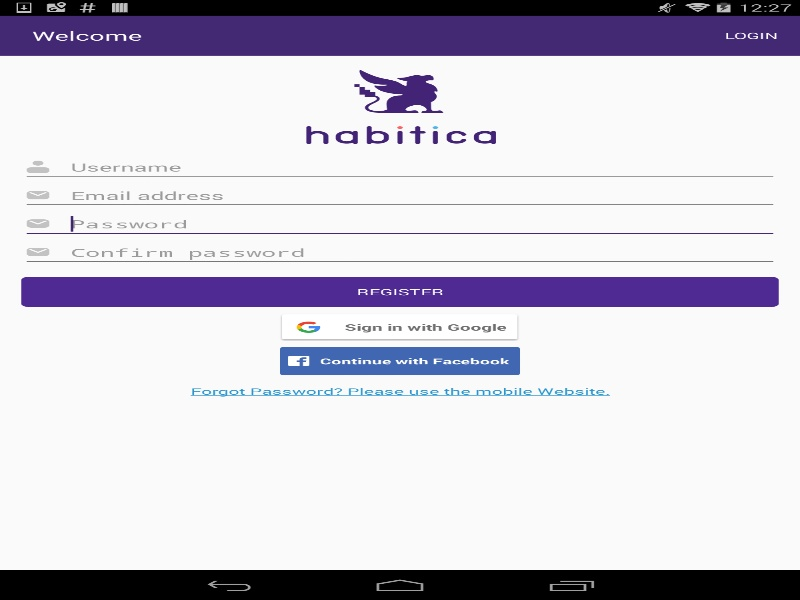Button: (21, 276, 778, 306), (276, 311, 522, 341), (280, 346, 520, 375)
Input: (21, 181, 778, 210), (21, 153, 778, 181), (21, 210, 778, 238), (21, 238, 778, 266)
